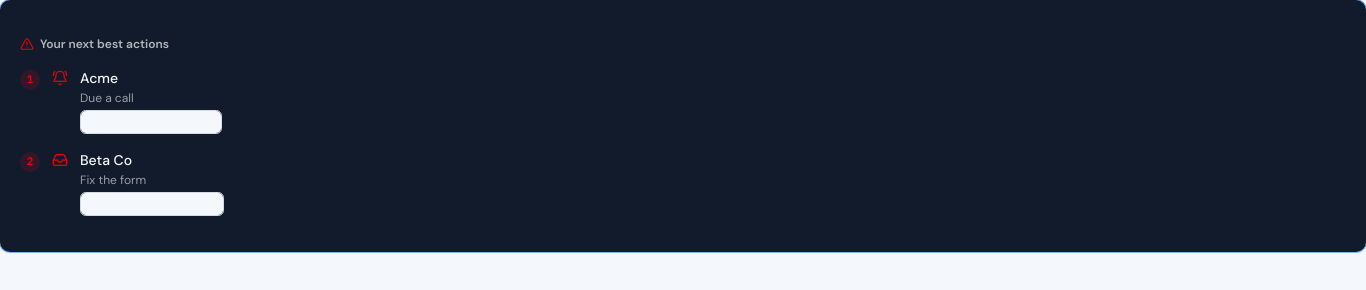
buildSectionContent — actions_required queue clearing wiring › one row's error doesn't affect a sibling row's independent state
Click the button "Mark as contacted" at coordinates (151, 122), box 80,110 -> 222,134
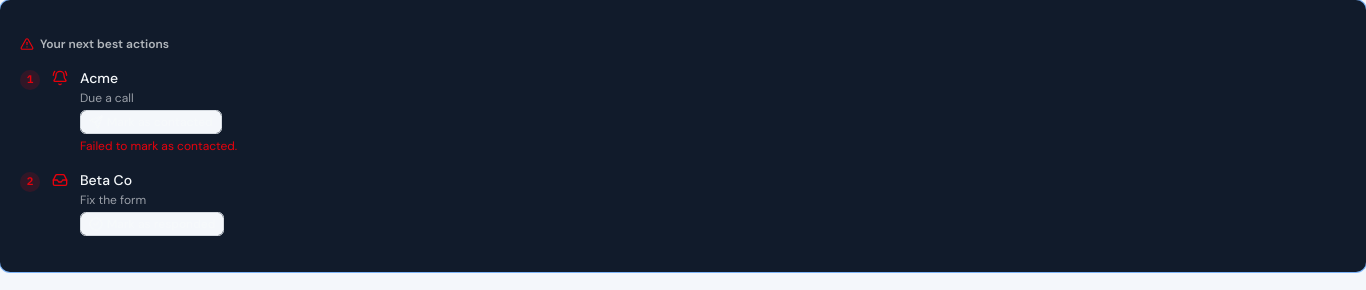
Check: the message reads "Failed to mark as contacted.", box 80,138 -> 237,154
Click the button "Mark as responded" at coordinates (152, 224), box 80,212 -> 224,236
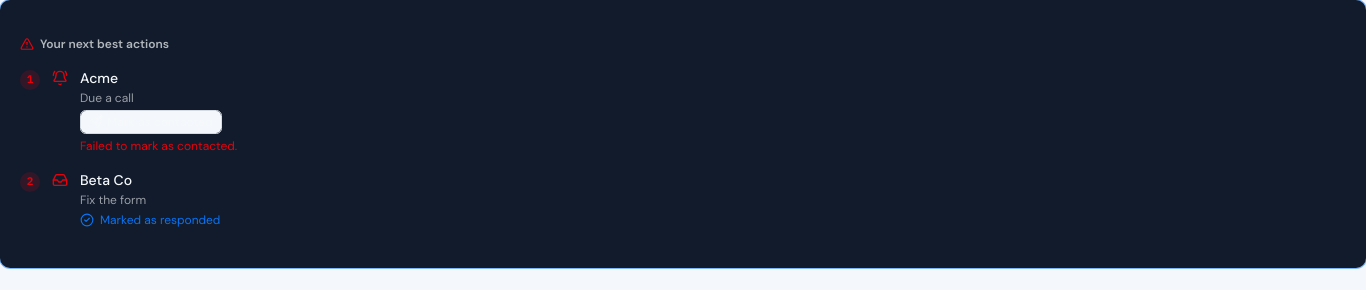
Check: the button "Mark as contacted" is enabled, box 80,110 -> 222,134
Check: the message reads "Failed to mark as contacted.", box 80,138 -> 237,154
Check: the text "Marked as responded" is shown, box 80,212 -> 220,228
